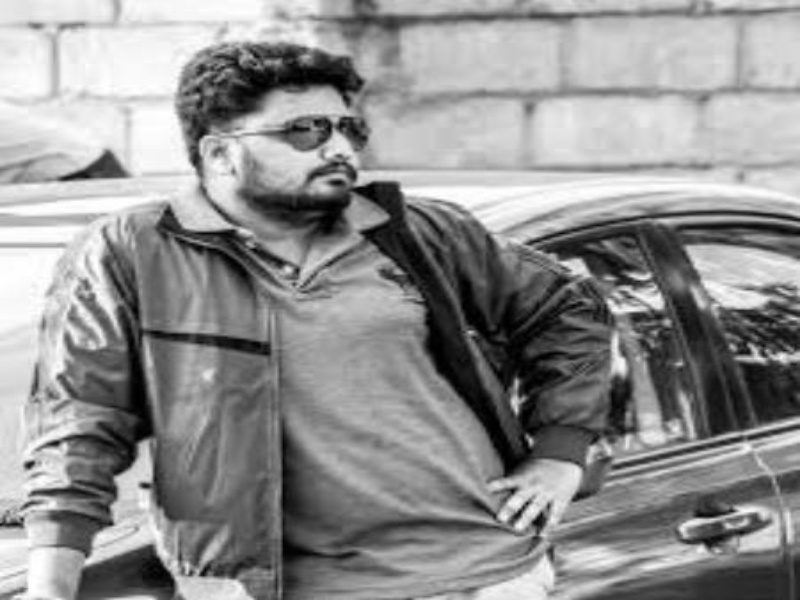TsisyArotava: (161, 28, 385, 221)
